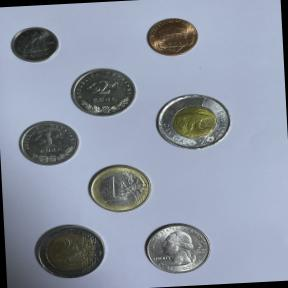coin: (149, 88, 241, 154), (30, 219, 112, 282), (140, 217, 218, 276), (65, 63, 142, 120), (82, 161, 160, 216), (142, 14, 204, 60), (7, 24, 63, 66)
